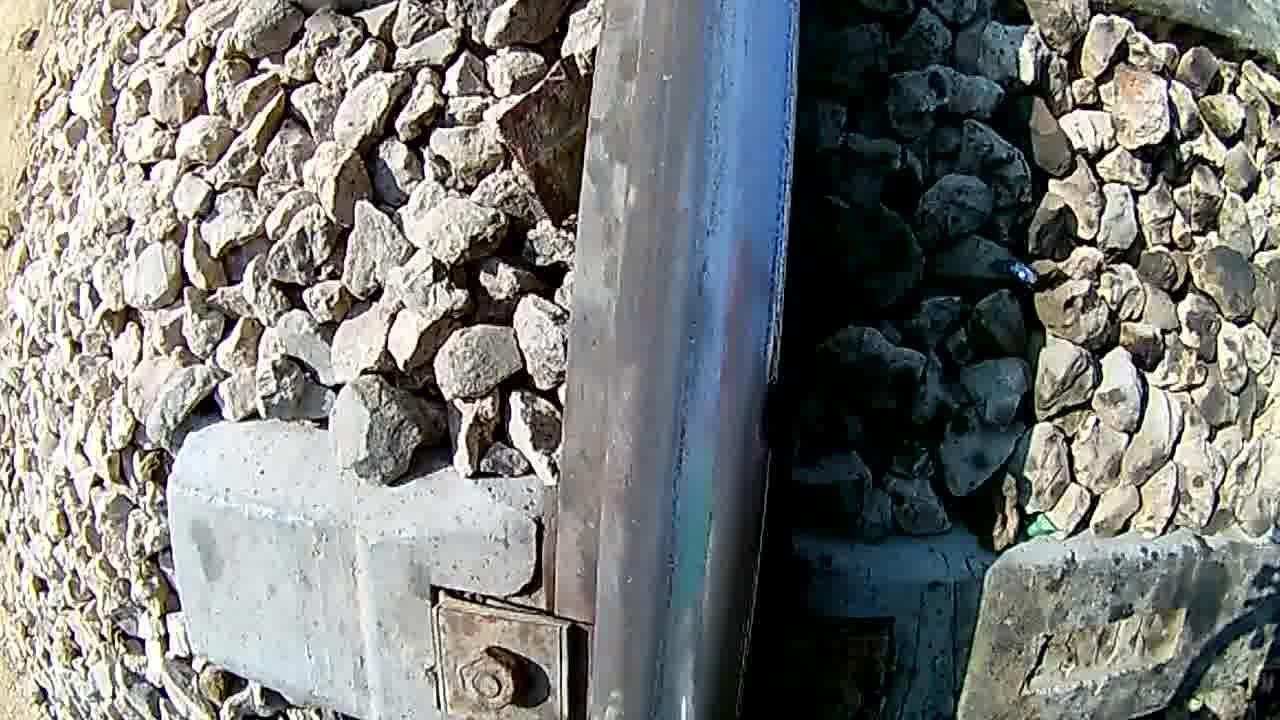crack: (589, 2, 764, 720)
